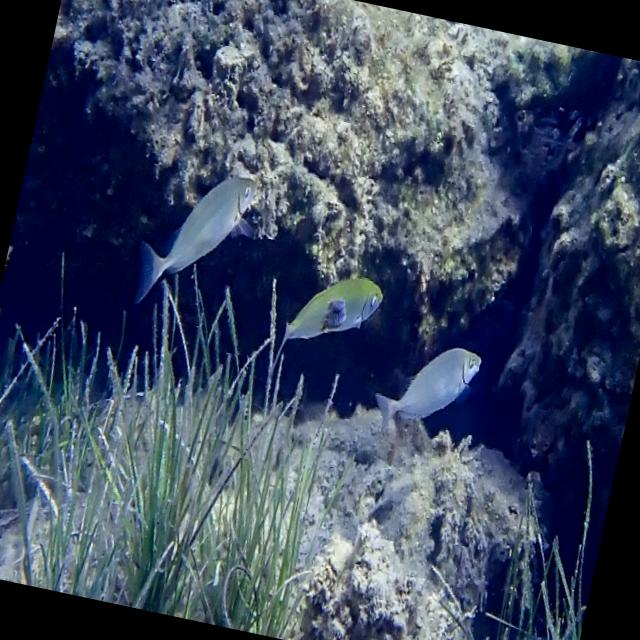Sokar Baligi: (118, 142, 268, 329), (259, 246, 391, 395), (364, 319, 488, 456)
